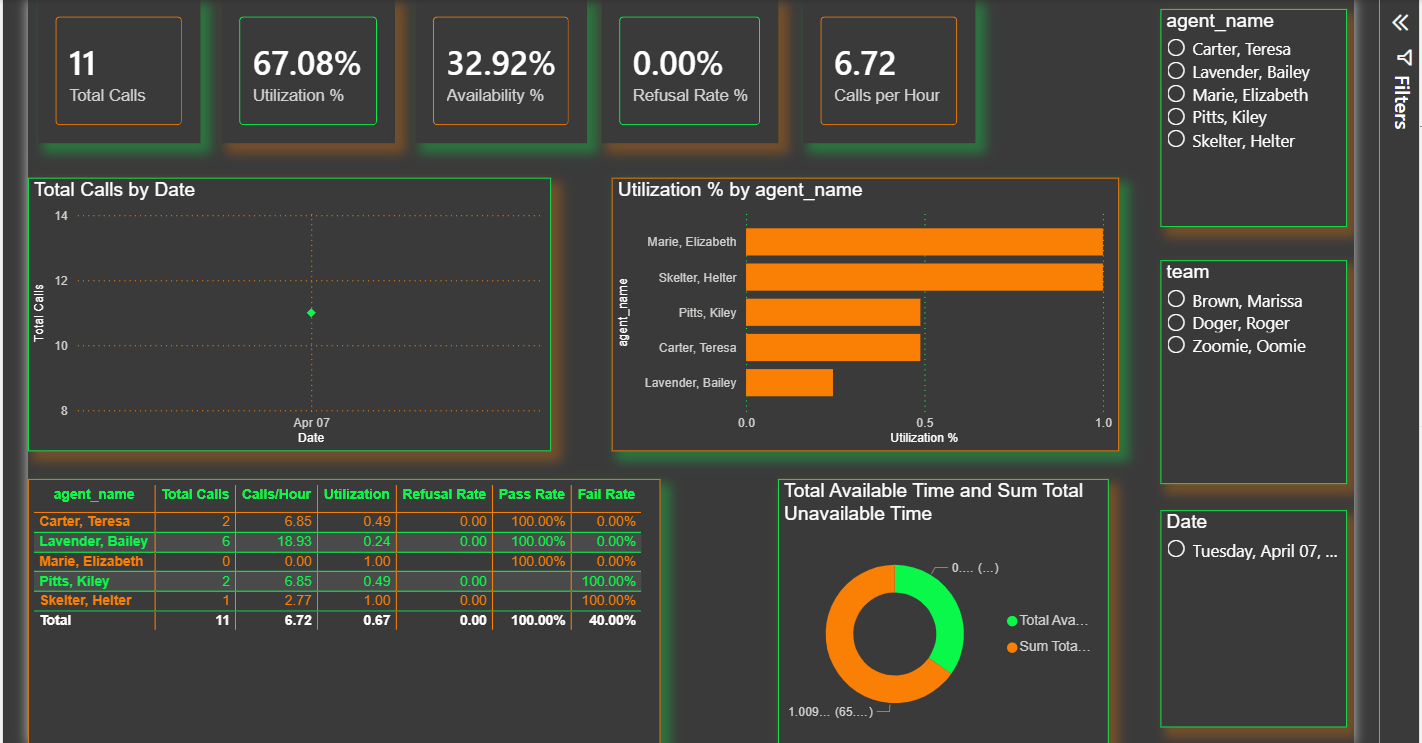

Layout of this report page (visuals, bound fields, positions):
{"tool":"powerbi","page":{"name":"WFM","canvas":[1280,720],"ordinal":3},"visuals":[{"type":"cardVisual","fields":{"Data":["WFM.Total Calls"]},"box":[9.8,0,156.9,139.2],"z":0},{"type":"cardVisual","fields":{"Data":["WFM.Utilization %"]},"box":[187.1,0,167.6,139.2],"z":1000},{"type":"cardVisual","fields":{"Data":["WFM.Availability %"]},"box":[374.2,0,165.8,139.2],"z":2000},{"type":"cardVisual","fields":{"Data":["WFM.Refusal Rate %"]},"box":[554.2,0,170.2,139.2],"z":3000},{"type":"cardVisual","fields":{"Data":["WFM.Calls per Hour"]},"box":[748.4,0,166.7,139.2],"z":4000},{"type":"listSlicer","fields":{"Values":["WFM.agent_name"]},"box":[1093.3,9.8,180,210.1],"z":5000},{"type":"listSlicer","fields":{"Values":["QC_Audit_Data.team"]},"box":[1093.3,251.8,180,216.4],"z":6000},{"type":"listSlicer","fields":{"Values":["WFM.Date"]},"box":[1093.3,493.9,180,209.3],"z":7000},{"type":"lineChart","fields":{"Y":["WFM.Total Calls"],"Category":["WFM.Date"]},"box":[0,172,504.5,264.2],"z":8000},{"type":"clusteredBarChart","fields":{"Category":["WFM.agent_name"],"Y":["WFM.Utilization %"]},"box":[563.9,172,489.5,264.2],"z":9000},{"type":"pivotTable","fields":{"Rows":["WFM.agent_name"],"Values":["WFM.Total Calls","WFM.Calls per Hour","WFM.Utilization %","WFM.Refusal Rate %","Sum(QC_Audit_Data.Pass Rate %)","QC_Audit_Data.Fail Rate"]},"box":[0,462.9,610,257.1],"z":10000},{"type":"donutChart","fields":{"Y":["WFM.Total Available Time","WFM.Sum Total Unavailable Time"]},"box":[724.4,462.9,319.2,257.1],"z":11000}]}

Visuals, with their boxes on the page's 1280x720 design canvas (x1, y1, x2, y2). These are canvas units, not pixel positions in the 1422x743 screenshot, which may show the page scaled, cropped or inside an application window:
cardVisual - WFM.Total Calls: select_region(10, 0, 167, 139)
cardVisual - WFM.Utilization %: select_region(187, 0, 355, 139)
cardVisual - WFM.Availability %: select_region(374, 0, 540, 139)
cardVisual - WFM.Refusal Rate %: select_region(554, 0, 724, 139)
cardVisual - WFM.Calls per Hour: select_region(748, 0, 915, 139)
listSlicer - WFM.agent_name: select_region(1093, 10, 1273, 220)
listSlicer - QC_Audit_Data.team: select_region(1093, 252, 1273, 468)
listSlicer - WFM.Date: select_region(1093, 494, 1273, 703)
lineChart - WFM.Total Calls x WFM.Date: select_region(0, 172, 504, 436)
clusteredBarChart - WFM.agent_name x WFM.Utilization %: select_region(564, 172, 1053, 436)
pivotTable - WFM.agent_name x WFM.Total Calls: select_region(0, 463, 610, 720)
donutChart - WFM.Total Available Time x WFM.Sum Total Unavailable Time: select_region(724, 463, 1044, 720)
